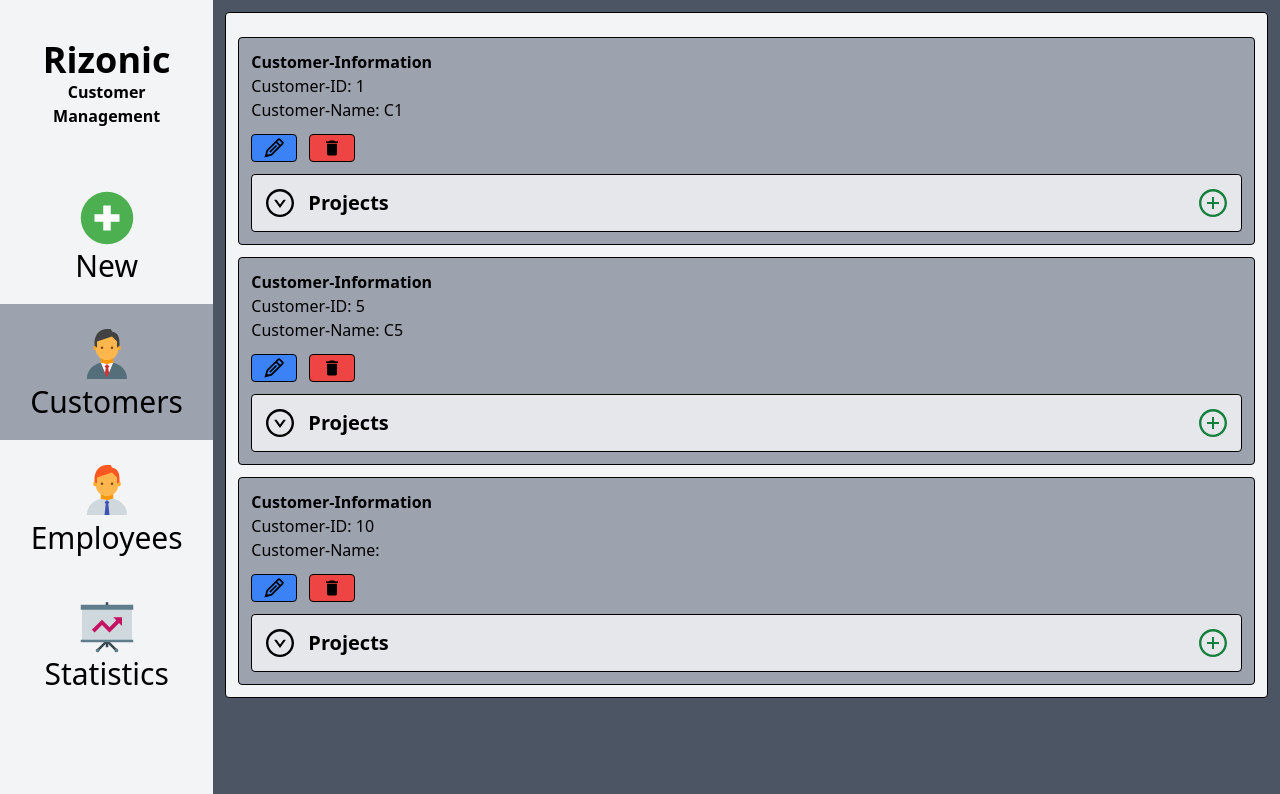
Test case: delete project › open project dropdown
Click the 1st icon with test id "open-project-dropdown" at (280, 203), box [264, 187, 296, 219]
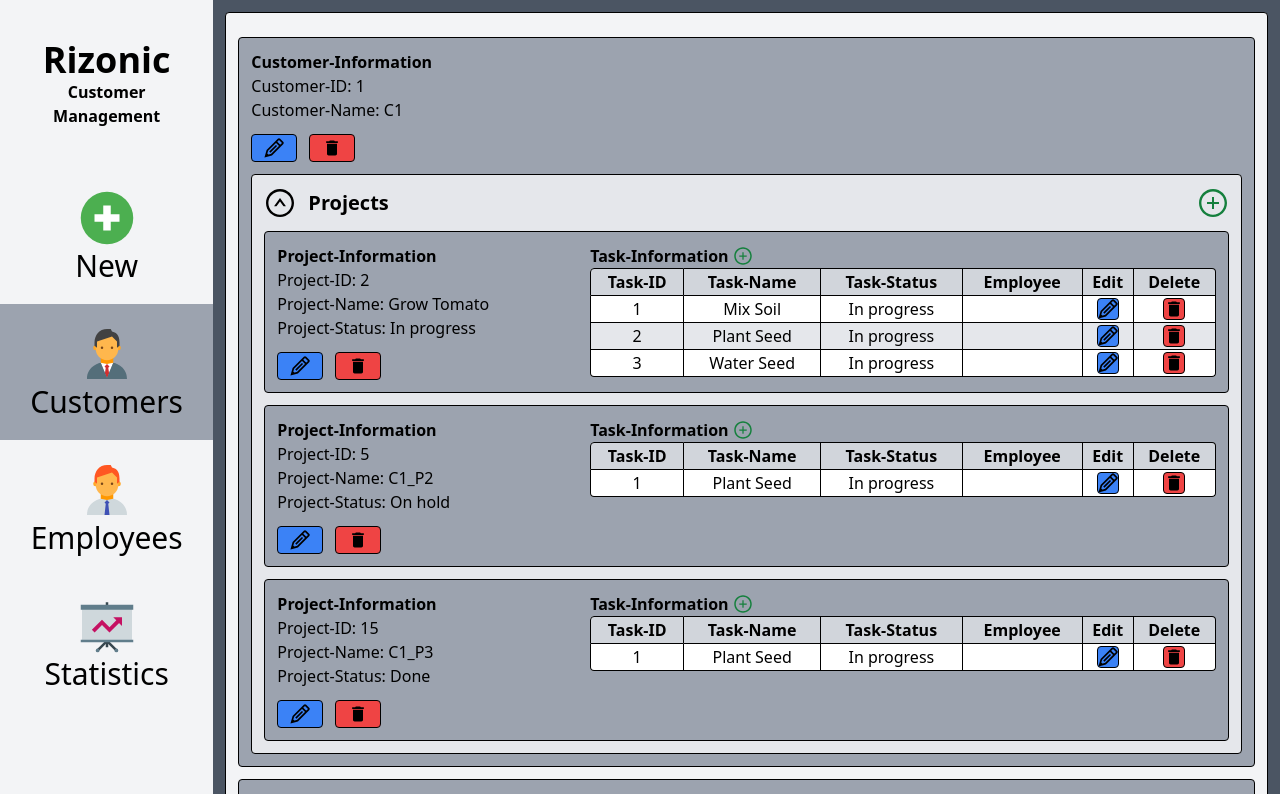
Check: the 1st heading with test id "project-information" is shown, box [277, 245, 436, 267]
